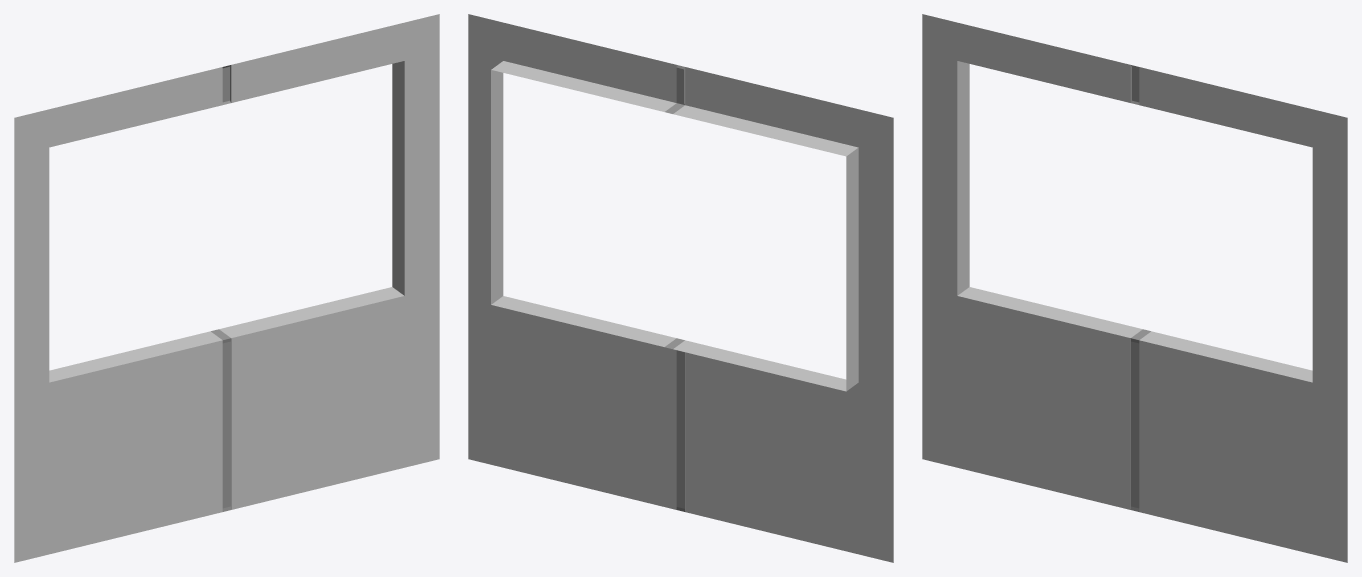
File: Ext-ConcreteWindowframe.fbx
3 views of the same model, side by side, from view 1: azimuth 30°, elevation 25°; view 2: azimuth 150°, elevation 25°; view 3: azimuth 330°, elevation 25° (orthographic).
Visible parts, largest first — view 1: Ext-ConcreteWindowframe; view 2: Ext-ConcreteWindowframe; view 3: Ext-ConcreteWindowframe.
Boxes of the visible parts, left/top/right/bottom form: Ext-ConcreteWindowframe: left=14, top=14, right=439, bottom=562; Ext-ConcreteWindowframe: left=468, top=14, right=893, bottom=562; Ext-ConcreteWindowframe: left=922, top=14, right=1347, bottom=562.
Size of the model in its own units: 200 by 200 by 10.
